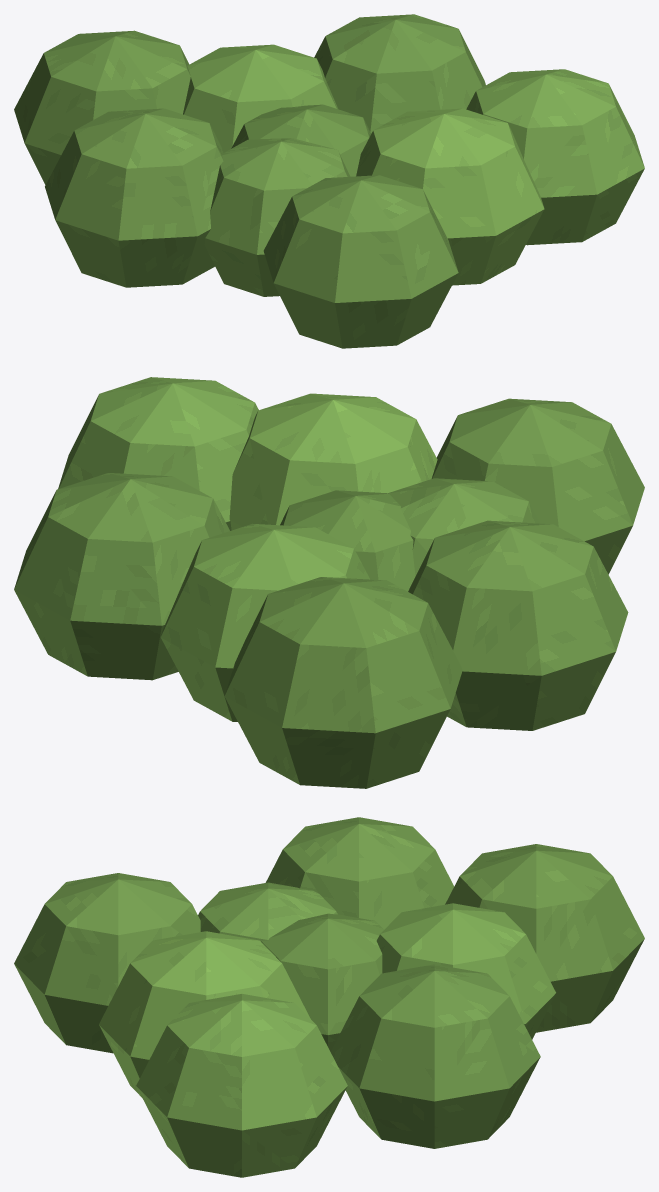
Rendered from pea.glb.
The picture shows the model from 3 angles, top to bottom: view 1: azimuth 30°, elevation 25°; view 2: azimuth 150°, elevation 25°; view 3: azimuth 270°, elevation 25°; orthographic projection. The views are drawn at different scales.
Parts seen in each view (by area): view 1: block_green pea (×9); view 2: block_green pea (×9); view 3: block_green pea (×9).
Boxes of the visible parts, left/top/right/bottom form: block_green pea (×9): left=14, top=14, right=644, bottom=348; block_green pea (×9): left=14, top=377, right=644, bottom=788; block_green pea (×9): left=14, top=817, right=644, bottom=1177.
Bounding box in the file's own units: 0.0435 × 0.0135 × 0.044.
1 material, 1 textured.
